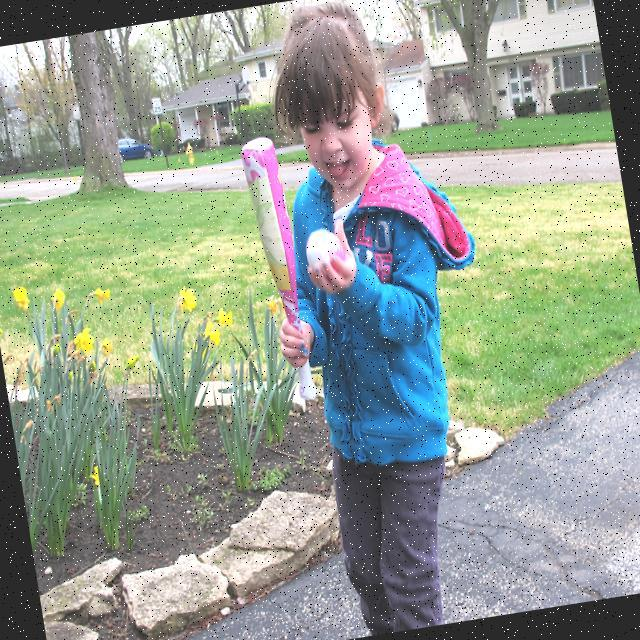fire_hydrant: (183, 142, 195, 166)
